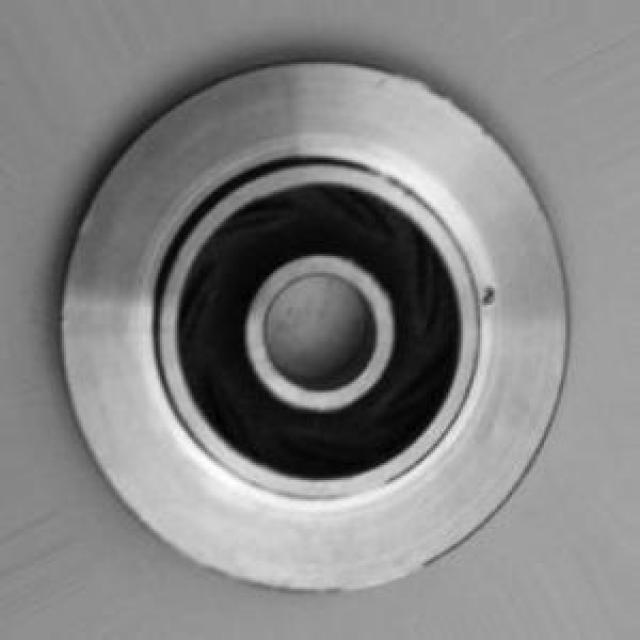Defect: (478, 279, 501, 313)
